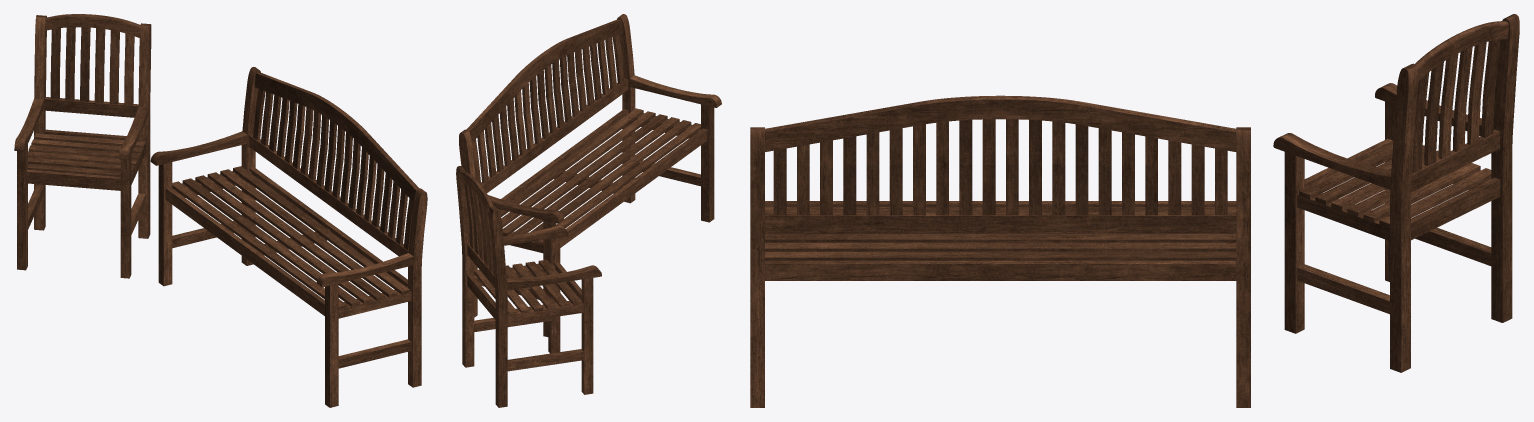
The model's file is Banca2.obj.
The picture shows the model from 3 angles, left to right: view 1: azimuth 30°, elevation 25°; view 2: azimuth 150°, elevation 25°; view 3: azimuth 270°, elevation 25°; orthographic projection. The views are drawn at different scales.
Parts seen in each view (by area): view 1: bench__and_chair_PBR:bench_bench_1002; view 2: bench__and_chair_PBR:bench_bench_1002; view 3: bench__and_chair_PBR:bench_bench_1002.
Boxes of the visible parts, x1,y1,x2,y2 form: bench__and_chair_PBR:bench_bench_1002: (14, 14, 427, 407); bench__and_chair_PBR:bench_bench_1002: (456, 14, 721, 407); bench__and_chair_PBR:bench_bench_1002: (750, 14, 1519, 407).
Size of the model in its own units: 2.4 by 2.5 by 5.56.
1 material, 1 textured.
